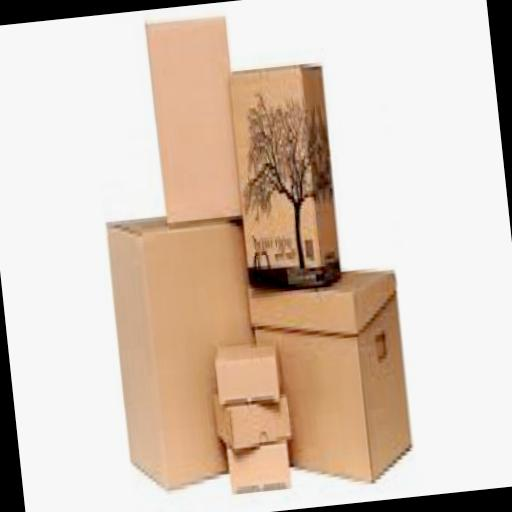cardboard: (104, 201, 270, 491), (248, 262, 420, 491), (230, 59, 345, 291), (144, 8, 249, 226), (213, 380, 295, 448), (214, 335, 284, 408), (227, 428, 294, 495)
